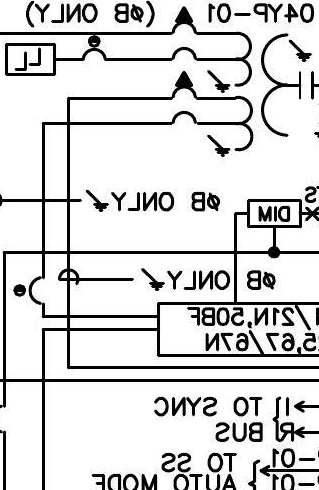115_cvt_1p: (169, 6, 315, 158)
DIM: (247, 199, 302, 229)
LL: (5, 43, 56, 77)
